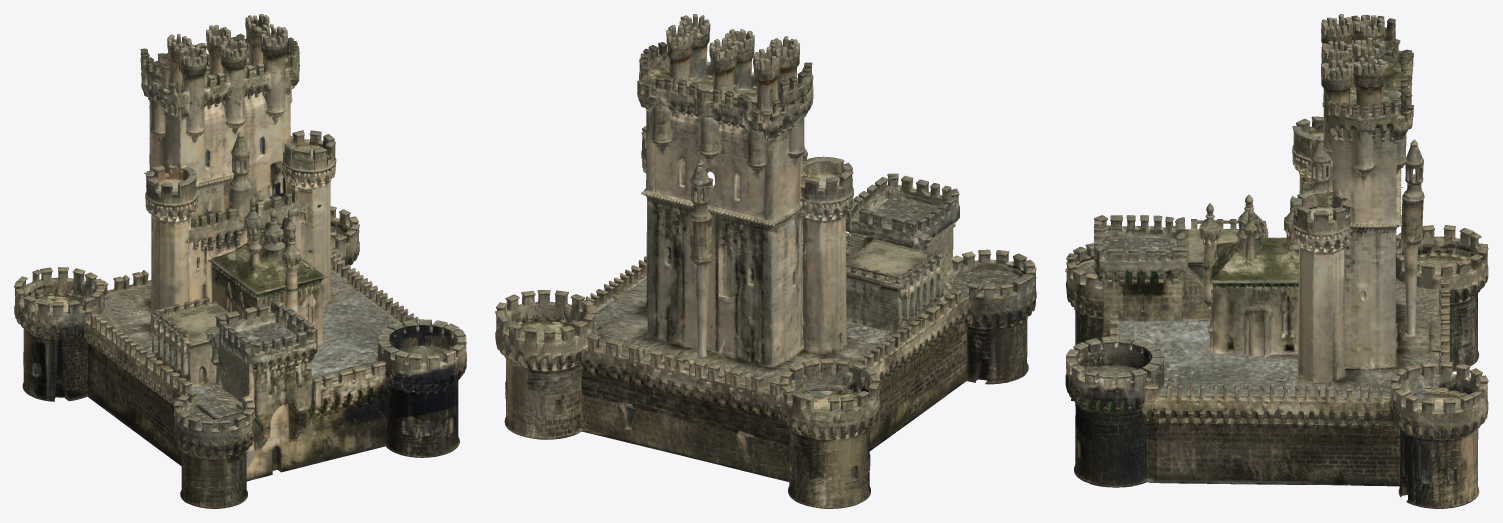
Rendered from keep_castel.glb.
3 views of the same model, side by side, from view 1: azimuth 30°, elevation 25°; view 2: azimuth 150°, elevation 25°; view 3: azimuth 270°, elevation 25° (orthographic). The views are drawn at different scales.
Parts seen in each view (by area): view 1: keep_castel; view 2: keep_castel; view 3: keep_castel.
Part boxes in pixels (left/top/right/bottom): keep_castel: left=14, top=14, right=466, bottom=508; keep_castel: left=495, top=14, right=1036, bottom=508; keep_castel: left=1065, top=14, right=1488, bottom=508.
Bounding box in the file's own units: 1.89 × 1.9 × 1.89.
Materials: 1 (1 with a texture image).
